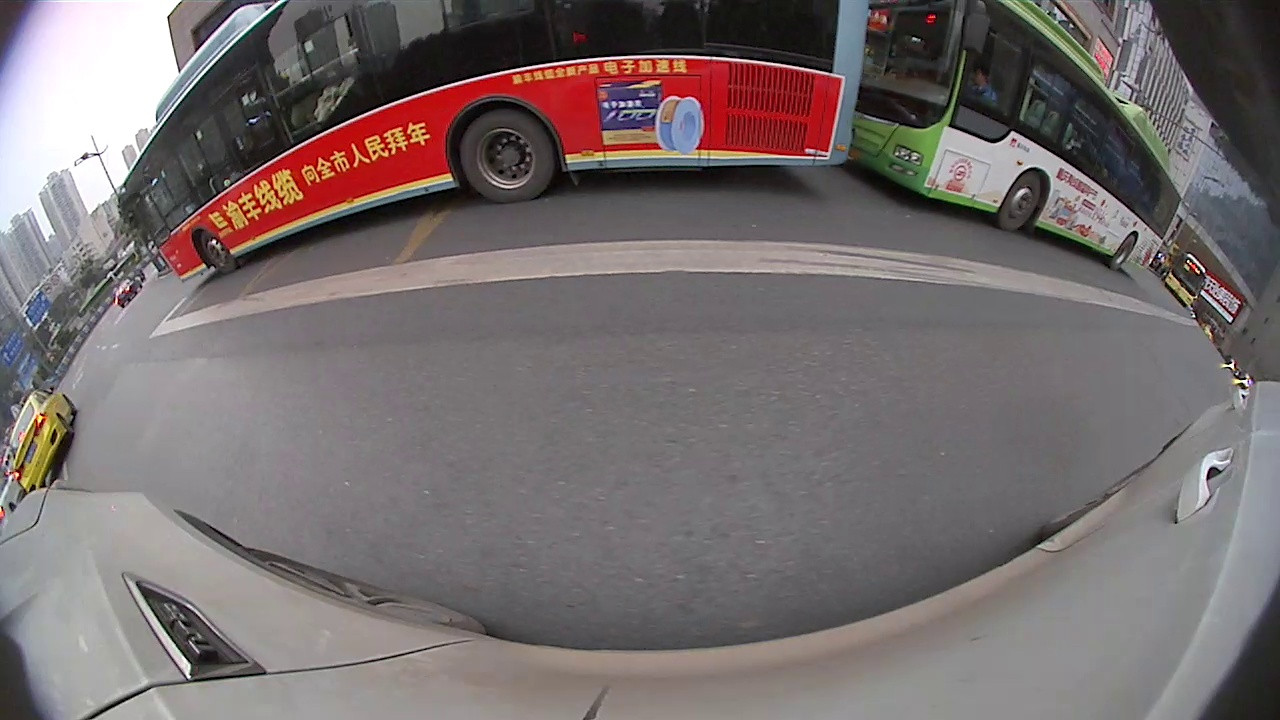car: (720, 69, 1070, 313), (138, 108, 361, 256), (403, 43, 642, 134), (1112, 279, 1160, 333), (1077, 233, 1122, 289)
front: (242, 163, 288, 219), (1015, 270, 1063, 312), (568, 89, 608, 125)
rear: (839, 204, 909, 272), (154, 215, 189, 253), (432, 101, 464, 136)
